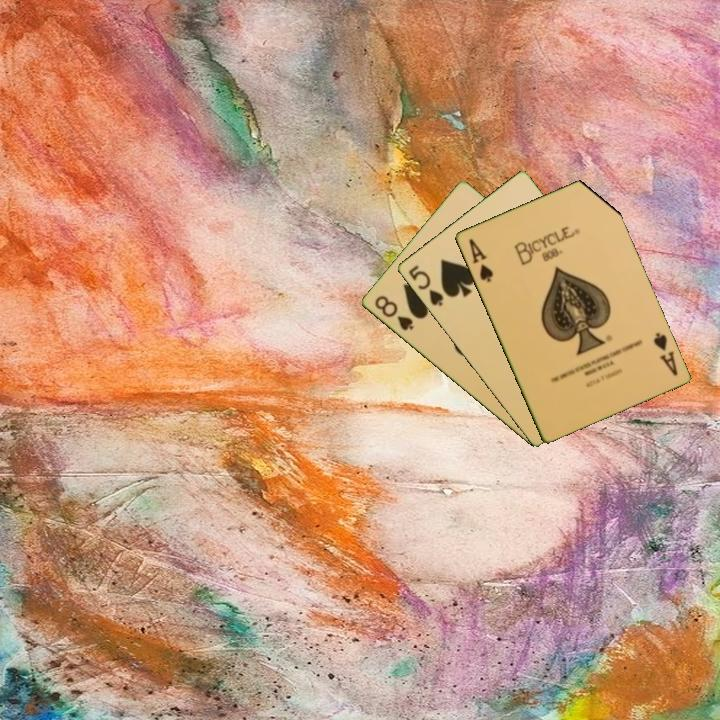5s: (404, 262, 446, 309)
8s: (371, 292, 416, 334)
As: (465, 235, 496, 285), (649, 329, 680, 379)
